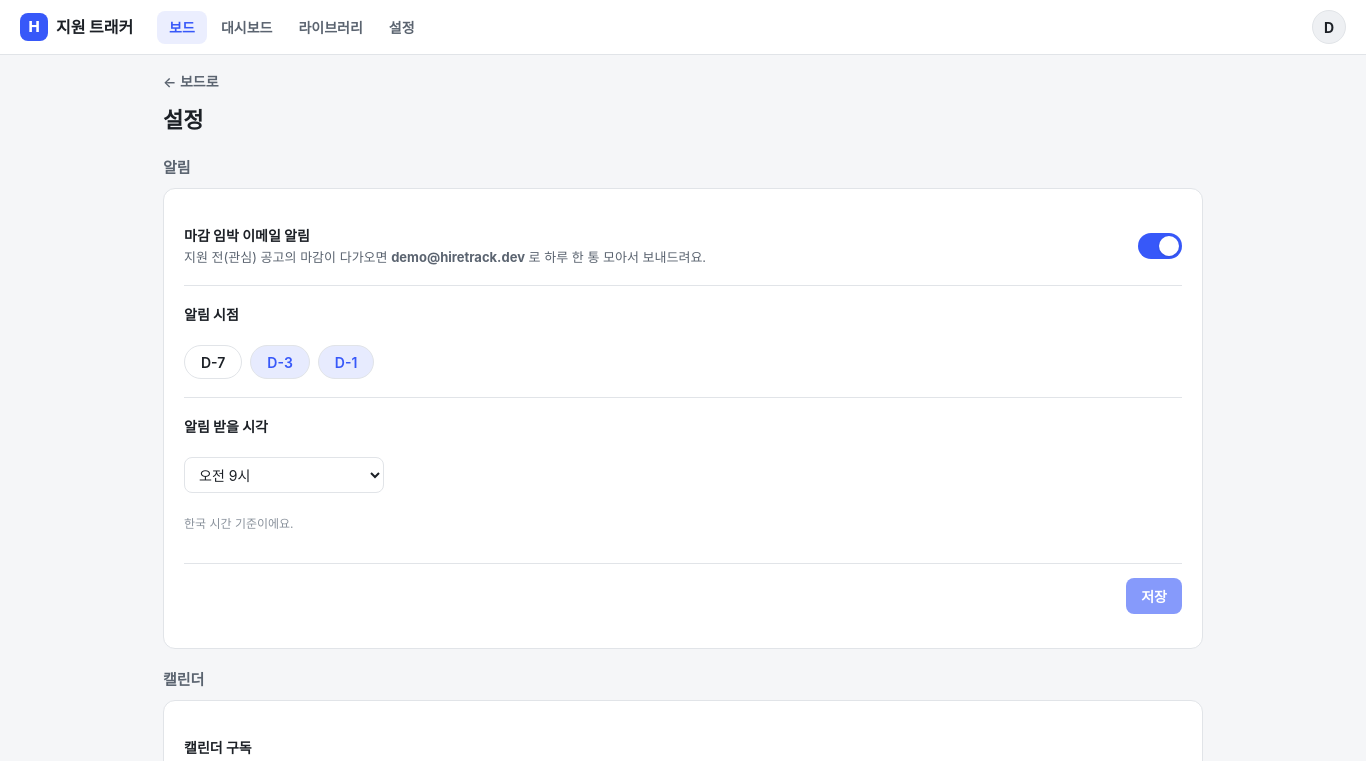
it: 설정 · 마감 알림 › 알림을 켠 채 시점을 모두 빼면 저장할 수 없다고 알려준다
The width and height of the screenshot is (1366, 761).
Check: the text "demo@hiretrack.dev" is shown, box [391, 248, 525, 264]
Click the 2nd checkbox labelled "D-3": (280, 362) [250, 345, 310, 379]
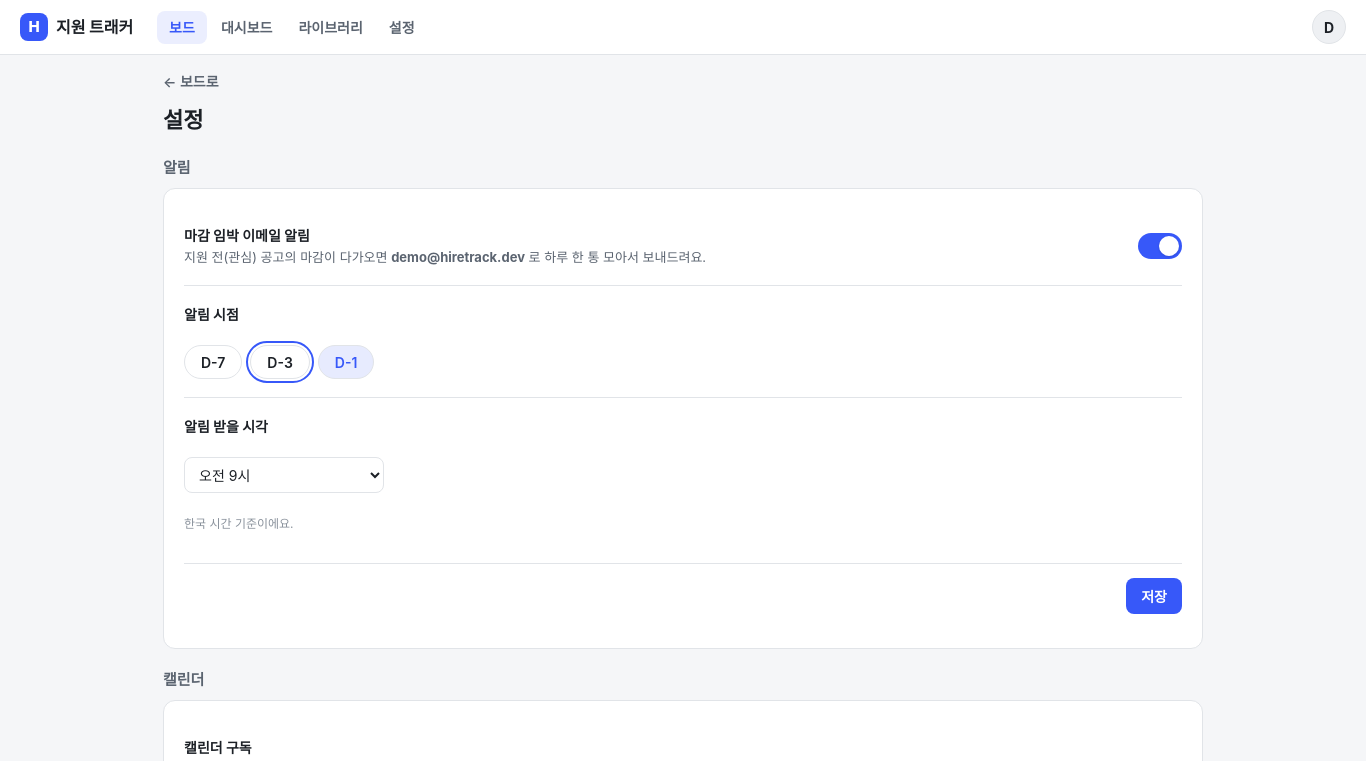
Click the 2nd checkbox labelled "D-1": (346, 362) [318, 345, 374, 379]
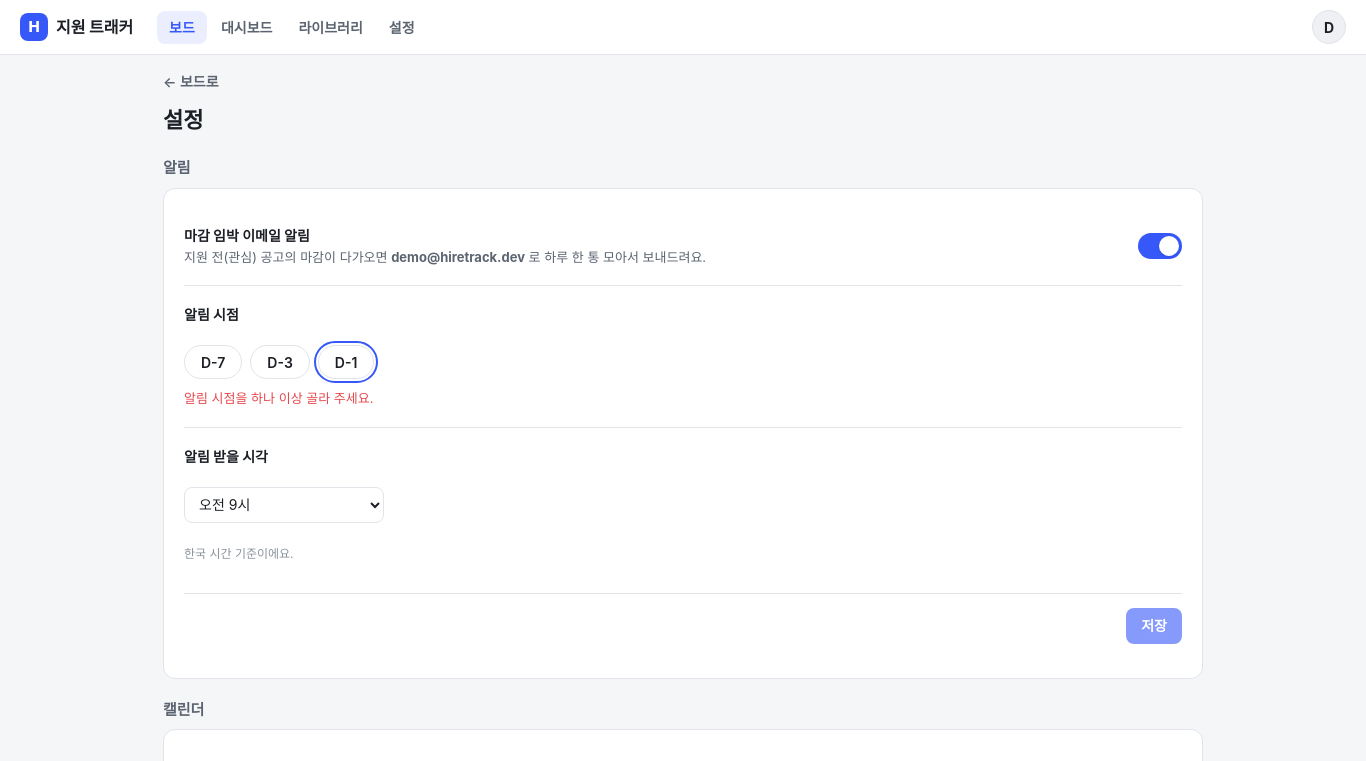
Check: the text "알림 시점을 하나 이상 골라 주세요." is shown, box [184, 389, 374, 408]
Check: the button "저장" is disabled, box [1126, 608, 1182, 644]
